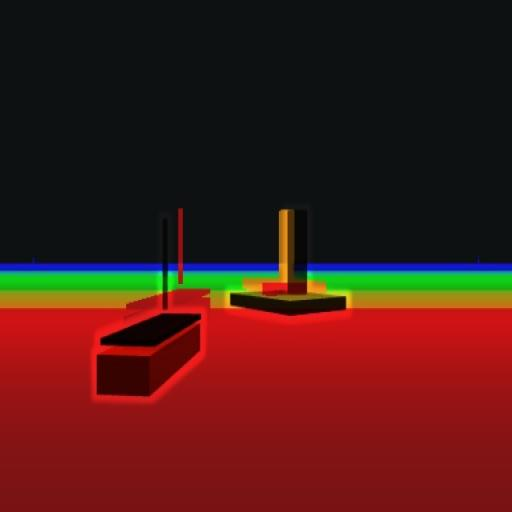platform: (227, 215, 347, 319)
vessel: (95, 255, 207, 398)
